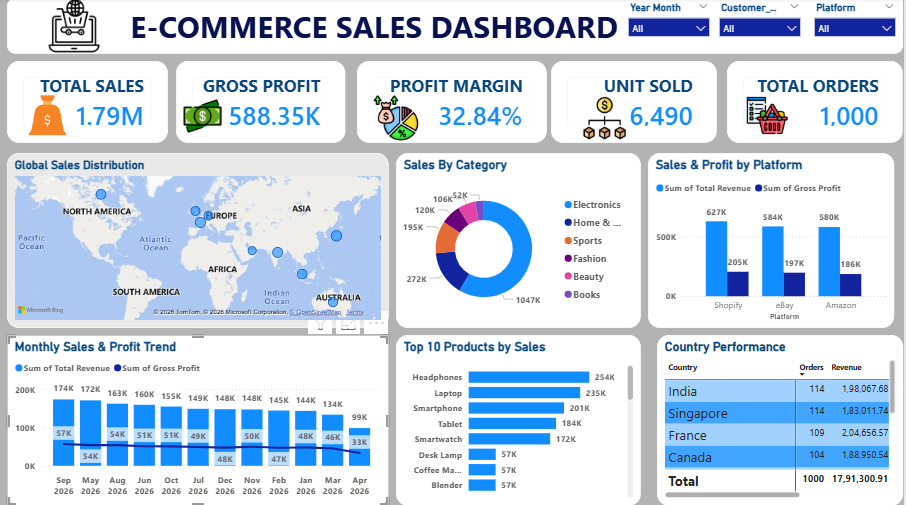

The dashboard page shown, as its layout file describes it:
{"tool":"powerbi","page":{"name":"Dashboard of sales","canvas":[1280,720],"ordinal":0},"visuals":[{"type":"textbox","box":[10,0,1270,79],"z":0},{"type":"image","box":[34,0,141.7,79.4],"z":1000},{"type":"cardVisual","fields":{"Data":["Ecom_Sales_Data.Total Sales"]},"box":[9.9,89.3,228.2,116.2],"z":2000},{"type":"cardVisual","fields":{"Data":["Ecom_Sales_Data.Gross Profit KPI"]},"box":[249.4,89.3,239.5,116.2],"z":3000},{"type":"cardVisual","fields":{"Data":["Ecom_Sales_Data.Profit Margin %"]},"box":[506,89.3,269.3,116.2],"z":4000},{"type":"cardVisual","fields":{"Data":["Ecom_Sales_Data.Unit Sold Display"]},"box":[780.9,89.3,235.3,116.2],"z":5000},{"type":"cardVisual","fields":{"Data":["Ecom_Sales_Data.Total Orders Display"]},"box":[1030.4,89.3,249.4,116.2],"z":6000},{"type":"image","box":[29.8,137.5,75.1,56.7],"z":7000},{"type":"image","box":[238.1,140.3,97.8,53.9],"z":8000},{"type":"image","box":[527.2,137.5,68,65.2],"z":9000},{"type":"image","box":[815,140.3,83.6,59.5],"z":10000},{"type":"image","box":[1030.4,137.5,114.8,58.1],"z":11000},{"type":"donutChart","title":"Sales By Category","fields":{"Category":["Ecom_Sales_Data.Product_Category"],"Y":["Sum(Ecom_Sales_Data.Total Revenue)"]},"box":[561.3,219.7,347,248],"z":12000},{"type":"clusteredColumnChart","title":"Sales & Profit by Platform","fields":{"Category":["Ecom_Sales_Data.Platform"],"Y":["Sum(Ecom_Sales_Data.Total Revenue)","Sum(Ecom_Sales_Data.Gross Profit)"]},"box":[918.4,219.7,348.7,248],"z":13000},{"type":"lineClusteredColumnComboChart","title":"Monthly Sales & Profit Trend","fields":{"Category":["Calender.Year Month"],"Y":["Sum(Ecom_Sales_Data.Total Revenue)"],"Y2":["Sum(Ecom_Sales_Data.Gross Profit)"]},"box":[9.9,477.6,541.4,242.4],"z":14000},{"type":"barChart","title":"Top 10 Products by Sales","fields":{"Category":["Ecom_Sales_Data.Product_Name"],"Y":["Sum(Ecom_Sales_Data.Total Revenue)"]},"box":[561,478,347,242],"z":15000},{"type":"pivotTable","title":"Country Performance","fields":{"Rows":["Ecom_Sales_Data.Customer_Country"],"Values":["Ecom_Sales_Data.Total Orders","Sum(Ecom_Sales_Data.Total Revenue)","Sum(Ecom_Sales_Data.Gross Profit)"]},"box":[931.2,477.6,348.7,242.4],"z":16000},{"type":"slicer","fields":{"Values":["Calender.Year Month"]},"box":[880.2,0,136.1,68],"z":17000},{"type":"slicer","fields":{"Values":["Ecom_Sales_Data.Customer_Country"]},"box":[1009.1,0,136.1,68],"z":18000},{"type":"slicer","fields":{"Values":["Ecom_Sales_Data.Platform"]},"box":[1143.8,0,136.1,68],"z":19000},{"type":"map","title":"Global Sales Distribution","fields":{"Category":["Ecom_Sales_Data.Customer_Country"],"Size":["Ecom_Sales_Data.Total Sales"]},"box":[9.9,219.7,541.4,248],"z":19001}]}

Visuals, with their boxes in screenshot pixels (x1, y1, x2, y2), scaled from the page's 1280x720 canvas onto the 906x505 screenshot:
textbox: <box>7,0,905,55</box>
image: <box>24,0,124,56</box>
cardVisual - Ecom_Sales_Data.Total Sales: <box>7,63,169,144</box>
cardVisual - Ecom_Sales_Data.Gross Profit KPI: <box>177,63,346,144</box>
cardVisual - Ecom_Sales_Data.Profit Margin %: <box>358,63,549,144</box>
cardVisual - Ecom_Sales_Data.Unit Sold Display: <box>553,63,719,144</box>
cardVisual - Ecom_Sales_Data.Total Orders Display: <box>729,63,905,144</box>
image: <box>21,96,74,136</box>
image: <box>169,98,238,136</box>
image: <box>373,96,421,142</box>
image: <box>577,98,636,140</box>
image: <box>729,96,811,137</box>
"Sales By Category" donutChart: <box>397,154,643,328</box>
"Sales & Profit by Platform" clusteredColumnChart: <box>650,154,897,328</box>
"Monthly Sales & Profit Trend" lineClusteredColumnComboChart: <box>7,335,390,504</box>
"Top 10 Products by Sales" barChart: <box>397,335,643,504</box>
"Country Performance" pivotTable: <box>659,335,905,504</box>
slicer - Calender.Year Month: <box>623,0,719,48</box>
slicer - Ecom_Sales_Data.Customer_Country: <box>714,0,811,48</box>
slicer - Ecom_Sales_Data.Platform: <box>810,0,905,48</box>
"Global Sales Distribution" map: <box>7,154,390,328</box>
